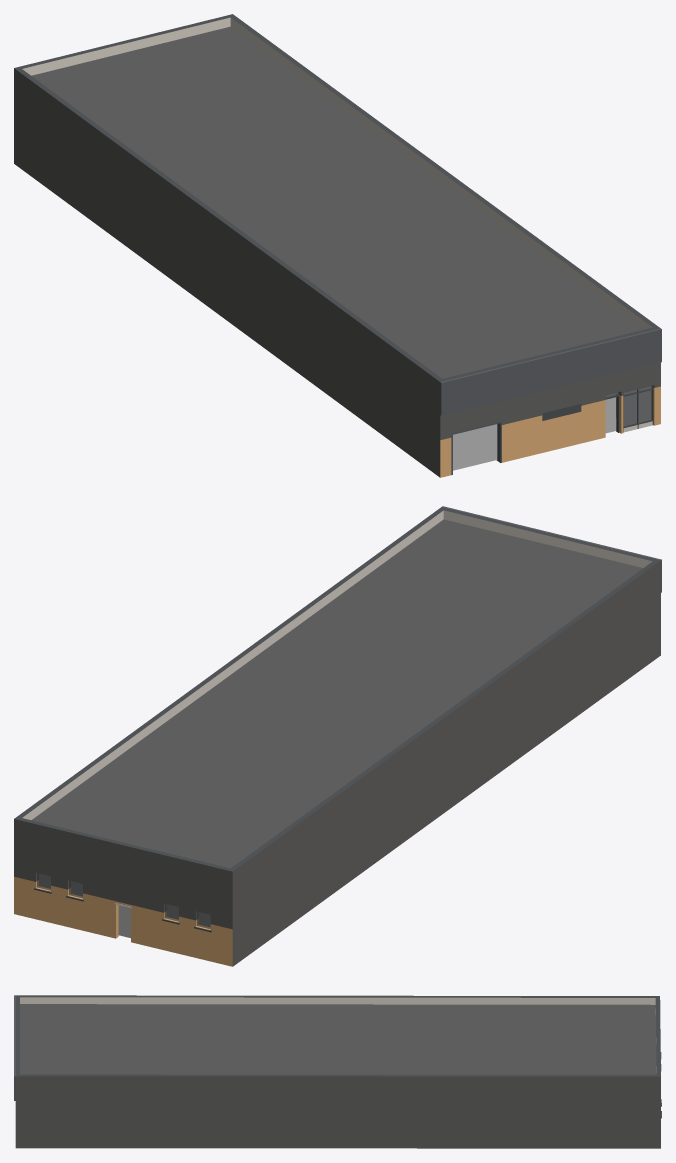
Rendered from exterior.glb.
The picture shows the model from 3 angles, top to bottom: view 1: azimuth 30°, elevation 25°; view 2: azimuth 150°, elevation 25°; view 3: azimuth 270°, elevation 25°; orthographic projection. The views are drawn at different scales.
Parts seen in each view (by area): view 1: roof, shell, fascia, shadow-proxy, glazing, storefront; view 2: roof, shell, shadow-proxy, glazing; view 3: shell, roof.
Boxes of the visible parts, box(x1,y1,x2,y2) form: roof: box(31, 26, 643, 378); shell: box(14, 14, 660, 477); fascia: box(440, 328, 661, 415); shadow-proxy: box(453, 386, 650, 470); glazing: box(605, 386, 652, 426); storefront: box(451, 385, 653, 474); roof: box(31, 519, 642, 868); shell: box(14, 507, 660, 966); shadow-proxy: box(39, 873, 210, 937); glazing: box(37, 873, 210, 928); shell: box(15, 995, 660, 1148); roof: box(20, 1004, 656, 1074).
Bounding box in the file's own units: 14.78 × 6.1 × 49.77.
